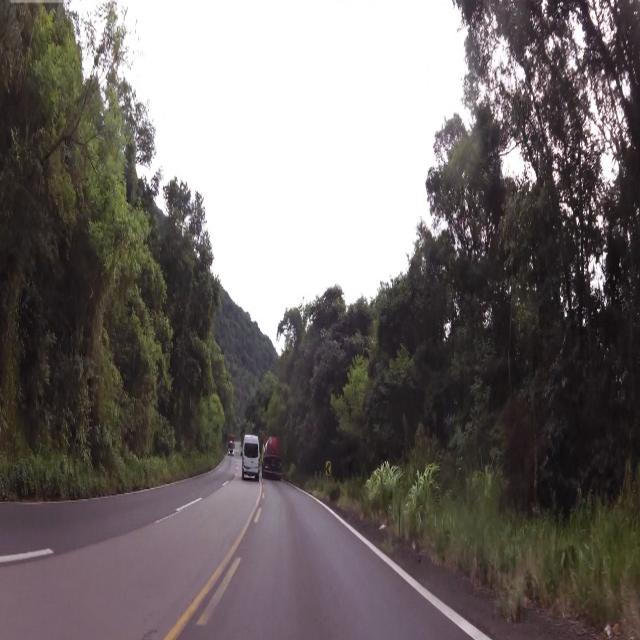Del: (323, 457, 333, 484)
